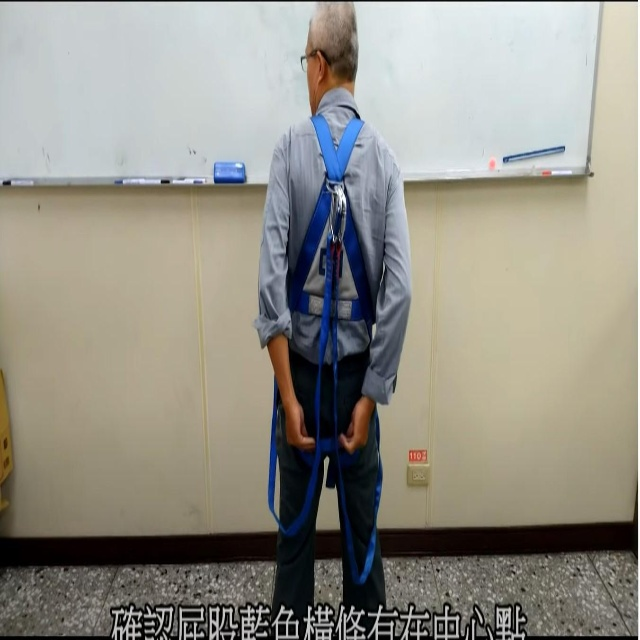Arnes_seguridad: (267, 114, 384, 594)
